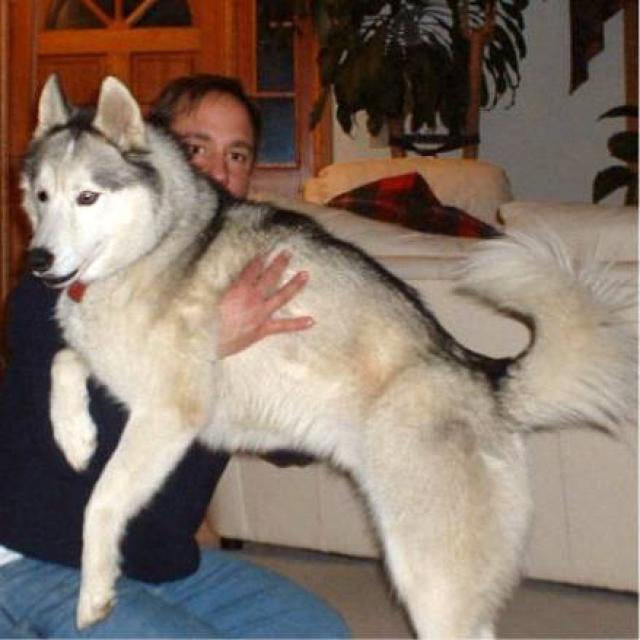dog: (18, 71, 637, 638)
